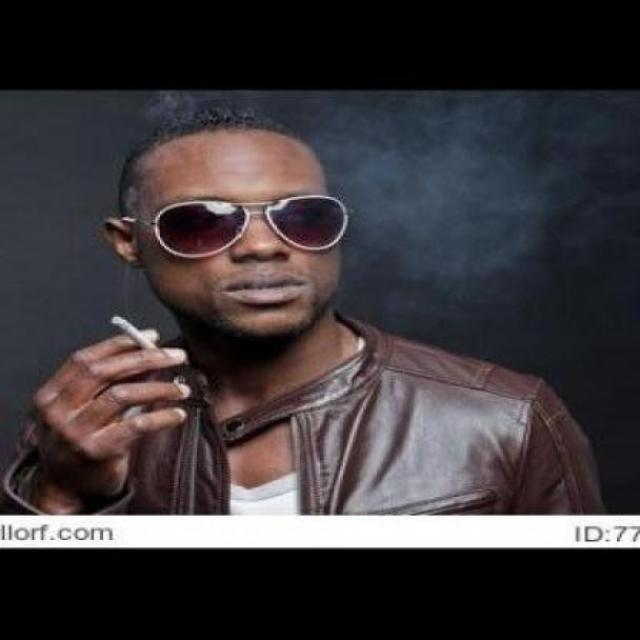rokok: (105, 310, 163, 354)
